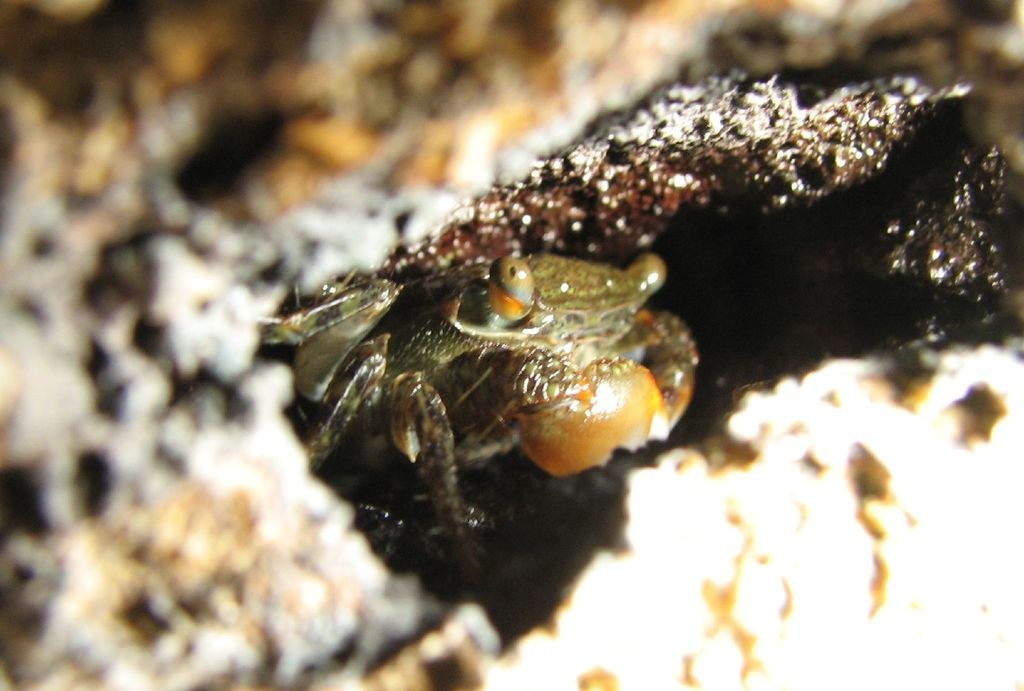insect: (259, 247, 703, 587), (268, 256, 721, 584)
